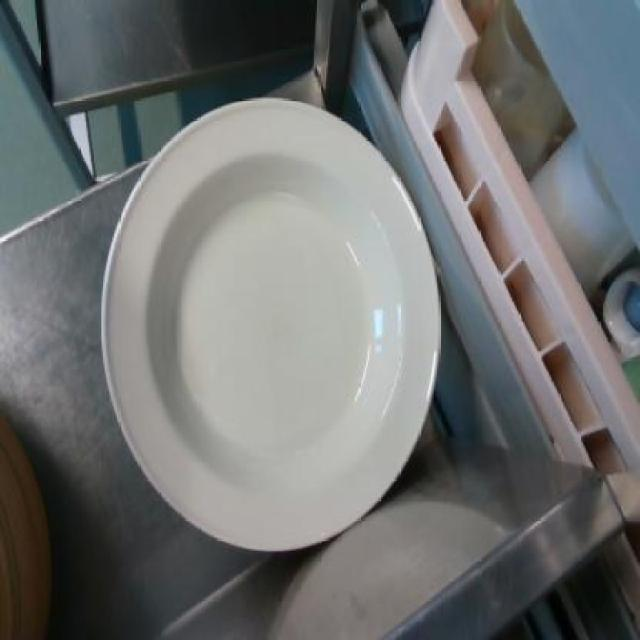plate: (98, 96, 440, 553)
